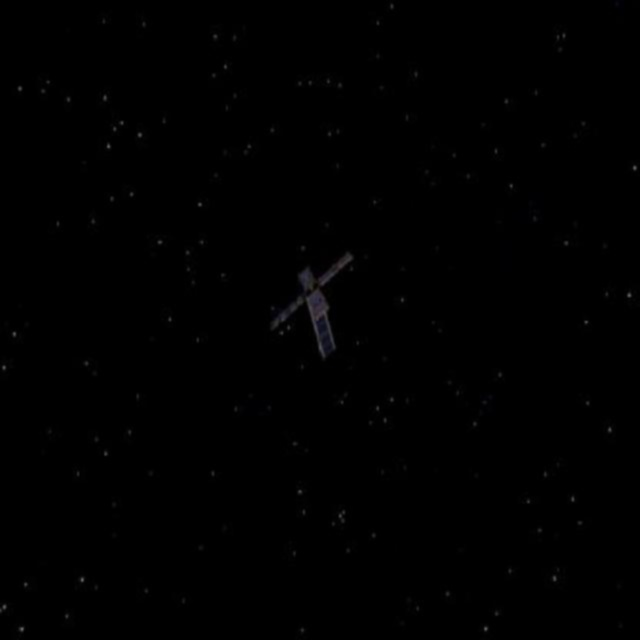medium_debris: (250, 246, 365, 373)
